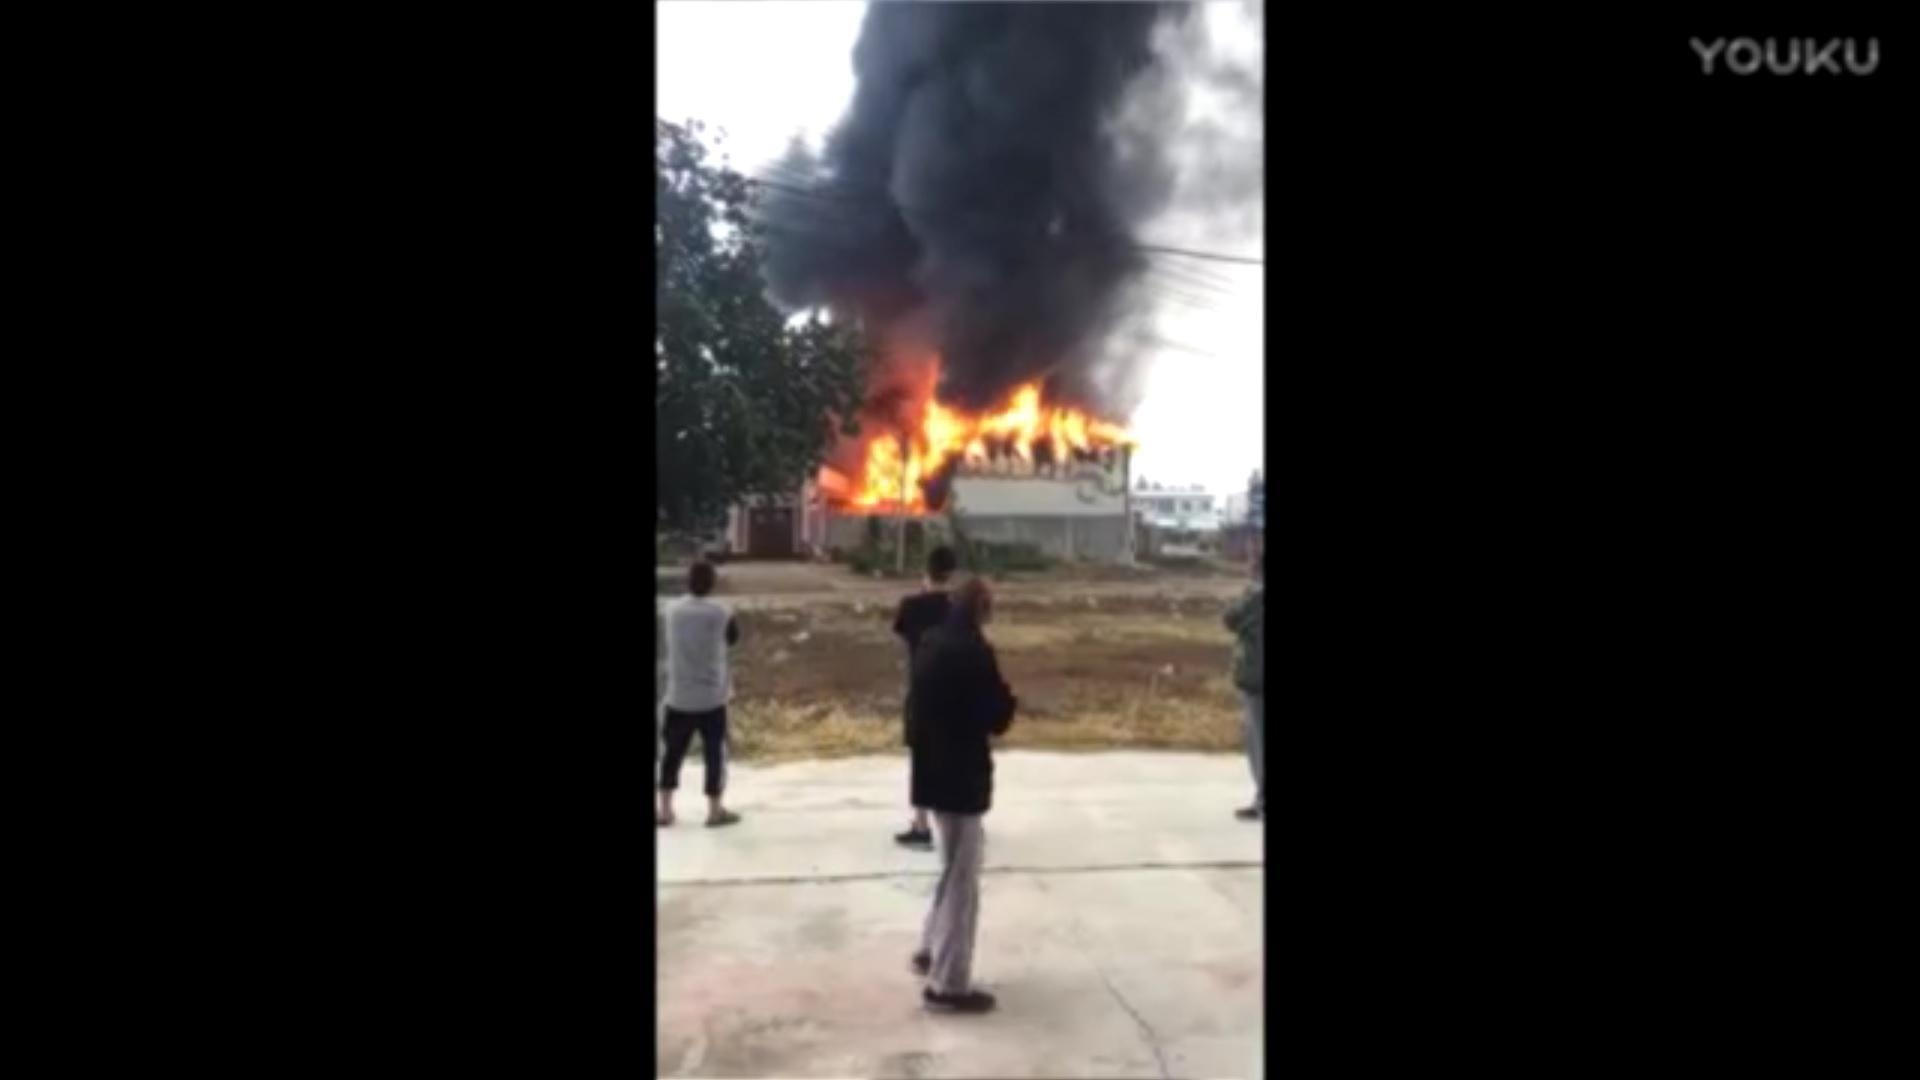fire: (823, 371, 1113, 506)
